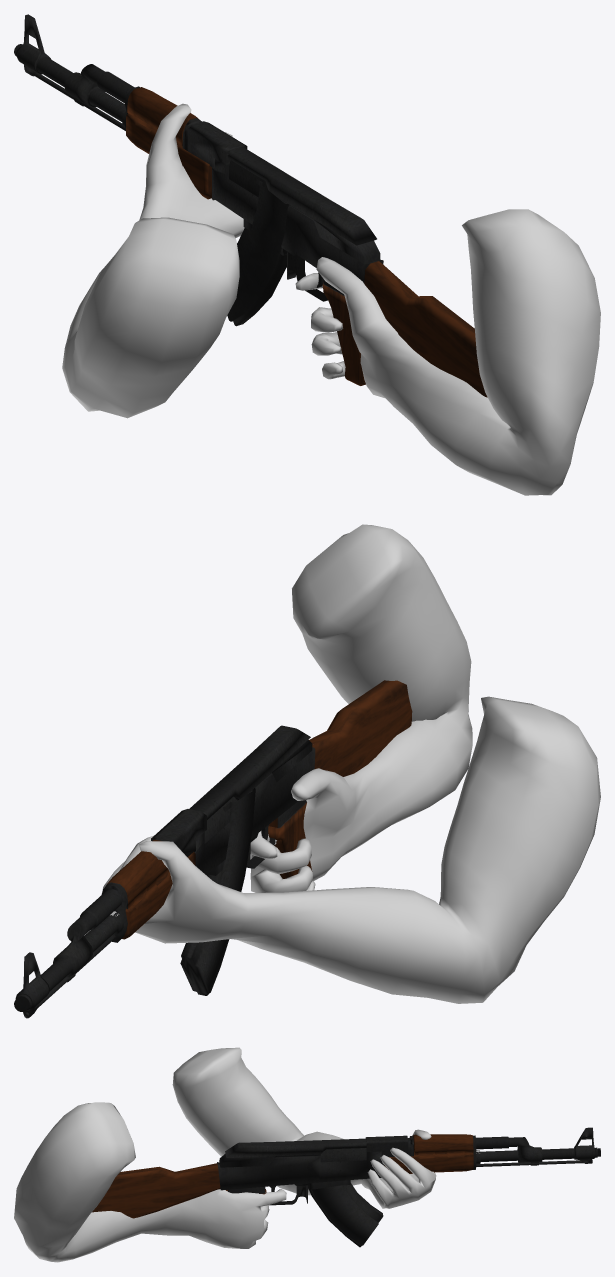
The picture shows the model from 3 angles, top to bottom: view 1: azimuth 30°, elevation 25°; view 2: azimuth 150°, elevation 25°; view 3: azimuth 270°, elevation 25°; orthographic projection. The views are drawn at different scales.
Visible parts, largest first — view 1: AK47; view 2: AK47; view 3: AK47.
Part boxes in pixels (<box>): AK47: <box>14,14,600,495</box>; AK47: <box>14,524,600,1018</box>; AK47: <box>14,1047,600,1262</box>.
Bounding box in the file's own units: 19.62 × 12.76 × 42.33.
